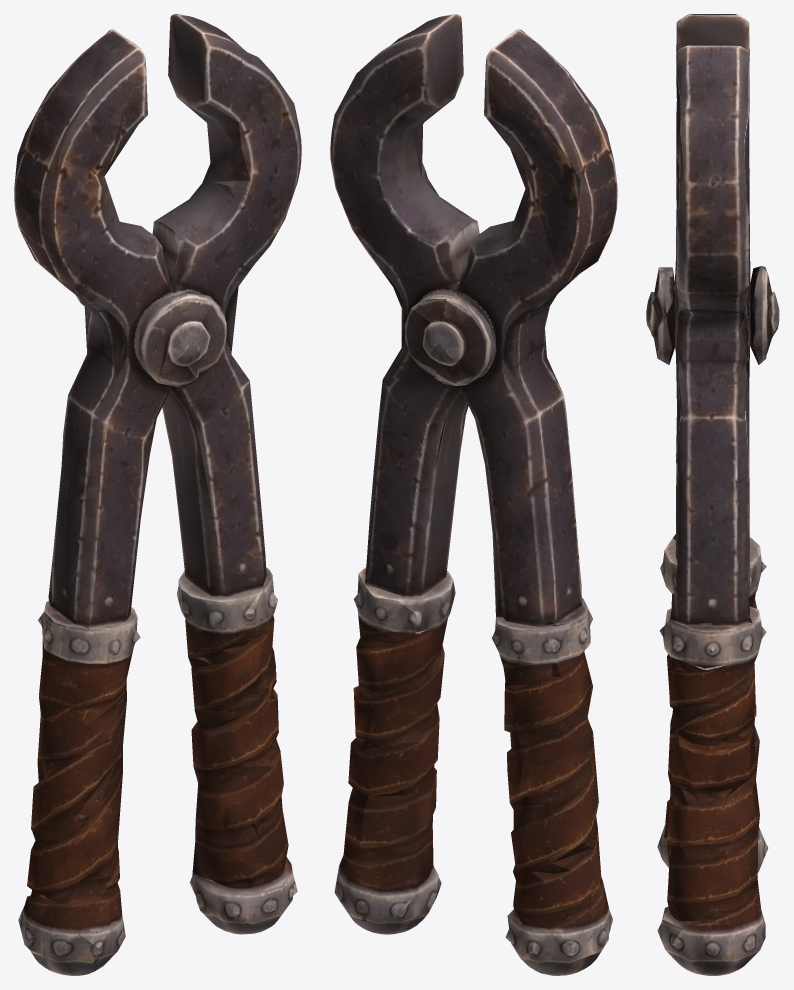
Rendered from tongs.glb.
3 views of the same model, side by side, from view 1: azimuth 30°, elevation 25°; view 2: azimuth 150°, elevation 25°; view 3: azimuth 270°, elevation 25° (orthographic). The views are drawn at different scales.
Parts seen in each view (by area): view 1: Mesh_0; view 2: Mesh_0; view 3: Mesh_0.
Boxes of the visible parts, box(x1,y1,x2,y2) form: Mesh_0: box(14, 14, 301, 975); Mesh_0: box(330, 14, 617, 975); Mesh_0: box(646, 14, 779, 975).
Bounding box in the file's own units: 0.5745 × 1.9 × 0.2553.
1 material, 1 textured.
